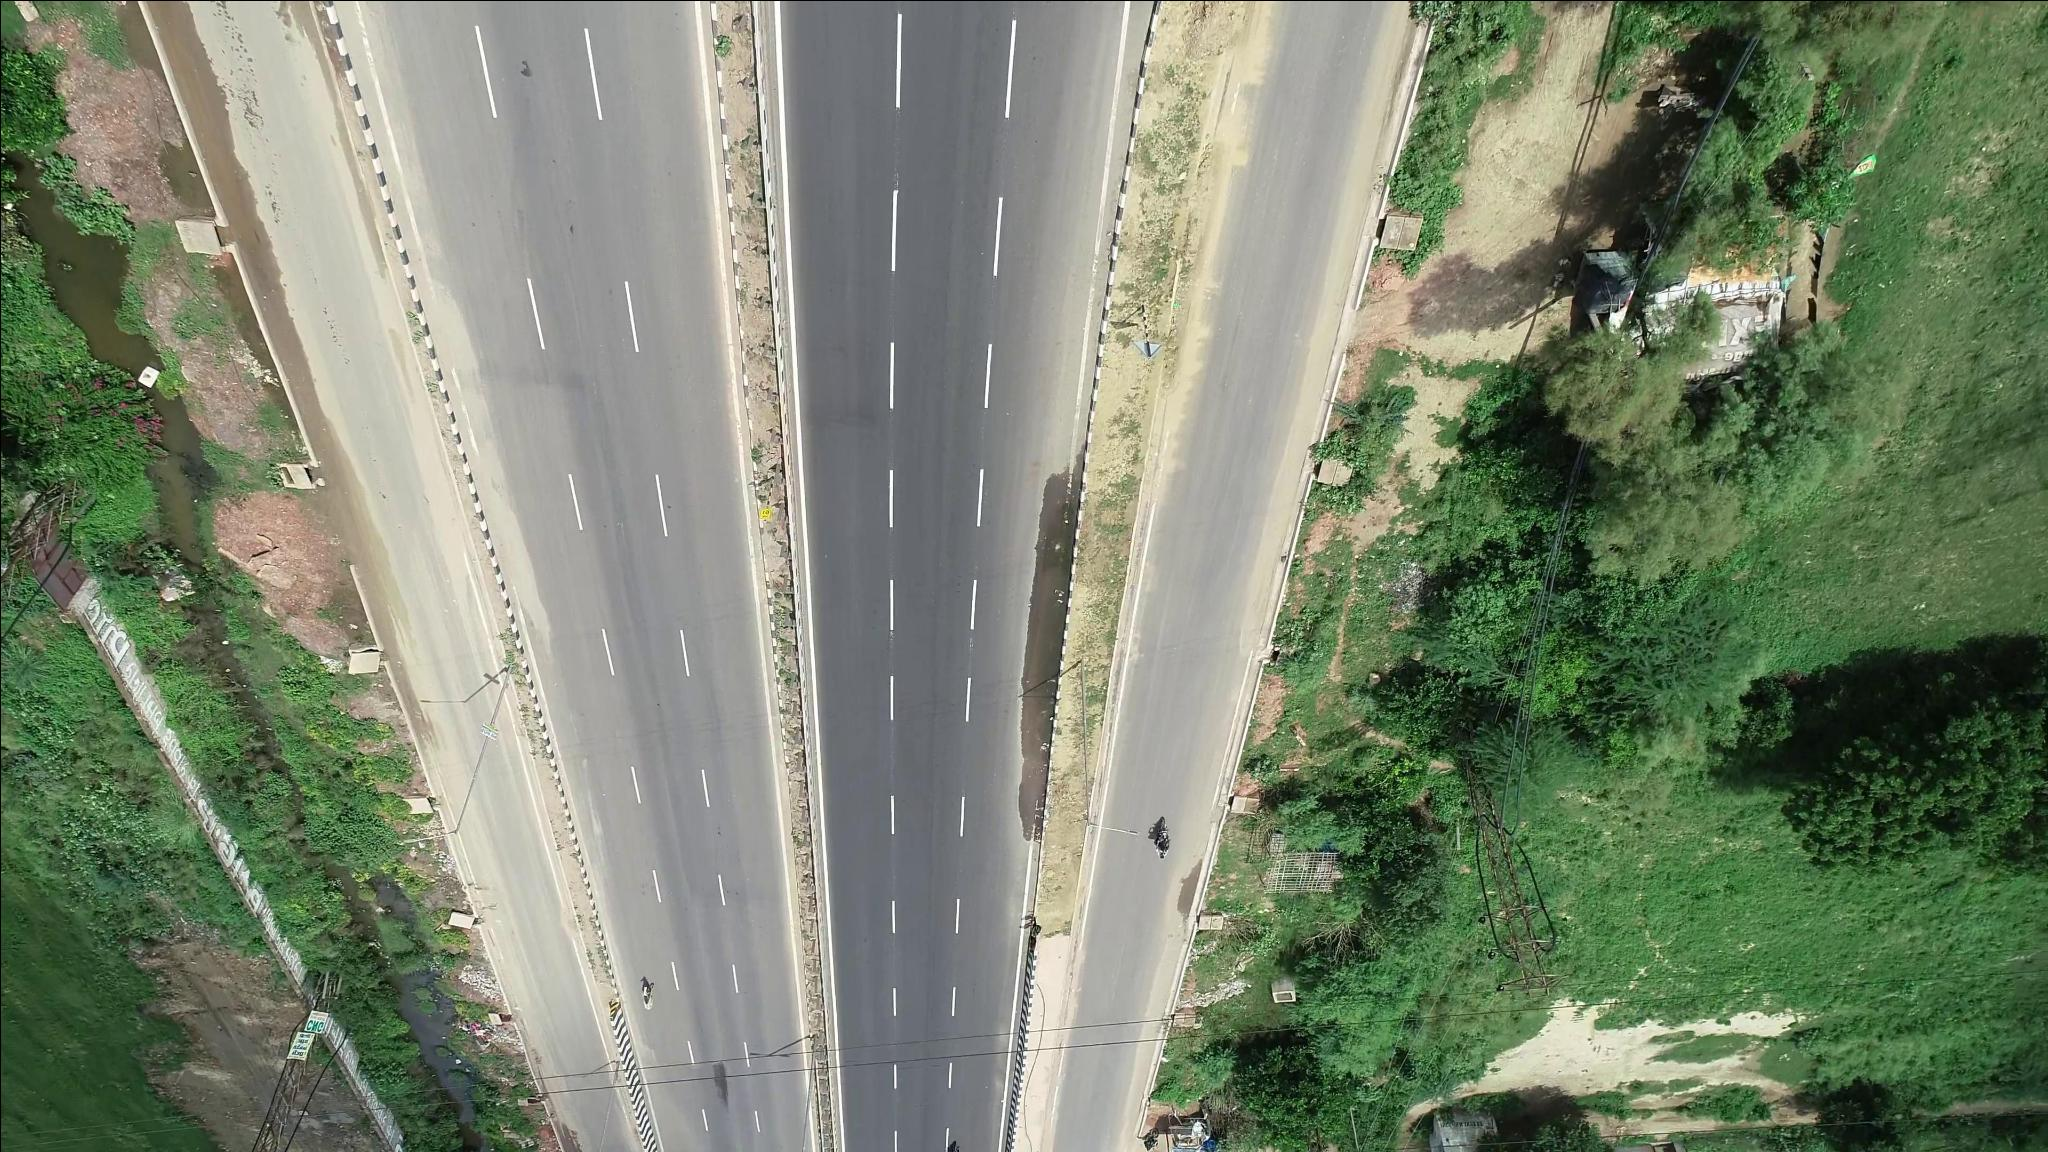Waterlogging: (1007, 530, 1068, 767)
